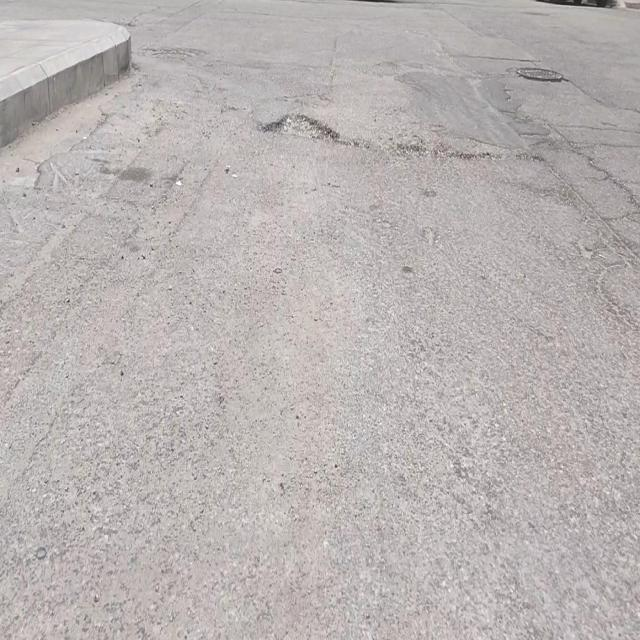Potholes: (261, 108, 338, 143)
